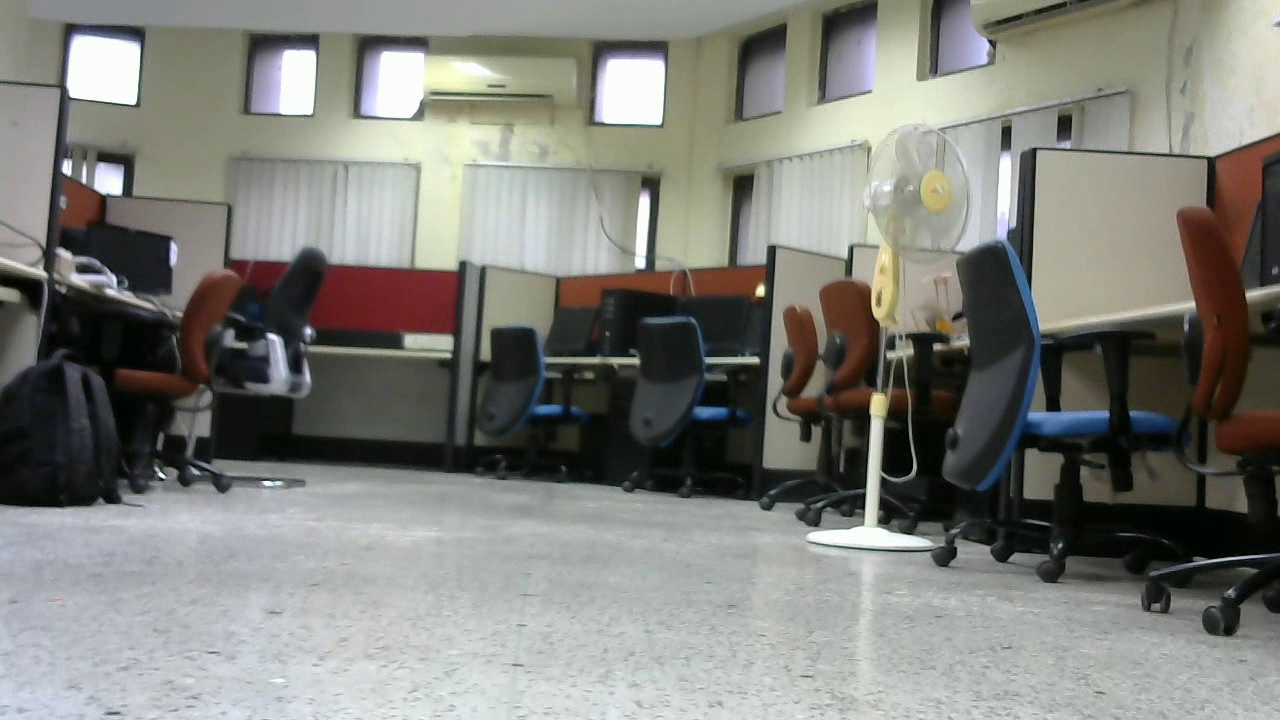chair: (918, 244, 1178, 581), (767, 278, 955, 533), (203, 245, 331, 481), (107, 269, 245, 471), (609, 311, 751, 494), (473, 323, 602, 486)
